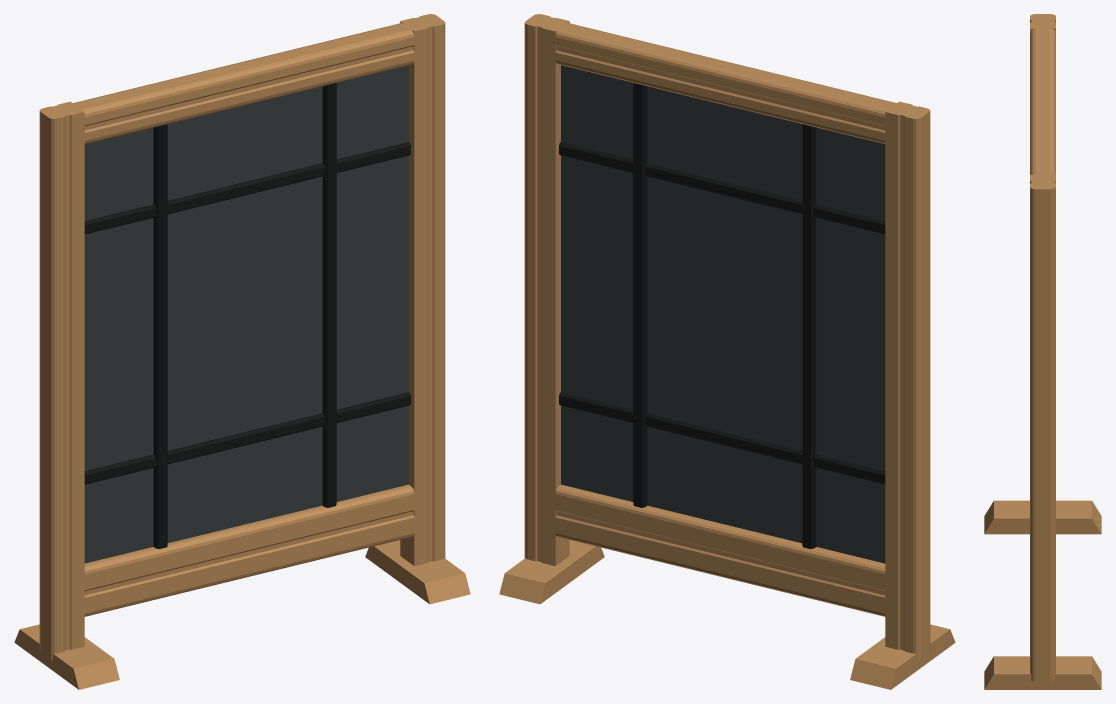
Rendered from booth-divider-screen-08f696.glb.
3 renders of one model, left to right at view 1: azimuth 30°, elevation 25°; view 2: azimuth 150°, elevation 25°; view 3: azimuth 270°, elevation 25°, orthographic. The views are drawn at different scales.
Parts seen in each view (by area): view 1: booth-divider-screen; view 2: booth-divider-screen; view 3: booth-divider-screen.
Part boxes in pixels (x1,y1,x2,y2): booth-divider-screen: (14, 14, 470, 689); booth-divider-screen: (499, 14, 955, 689); booth-divider-screen: (984, 14, 1101, 689).
Bounding box in the file's own units: 1.2 × 1.6 × 0.34.
